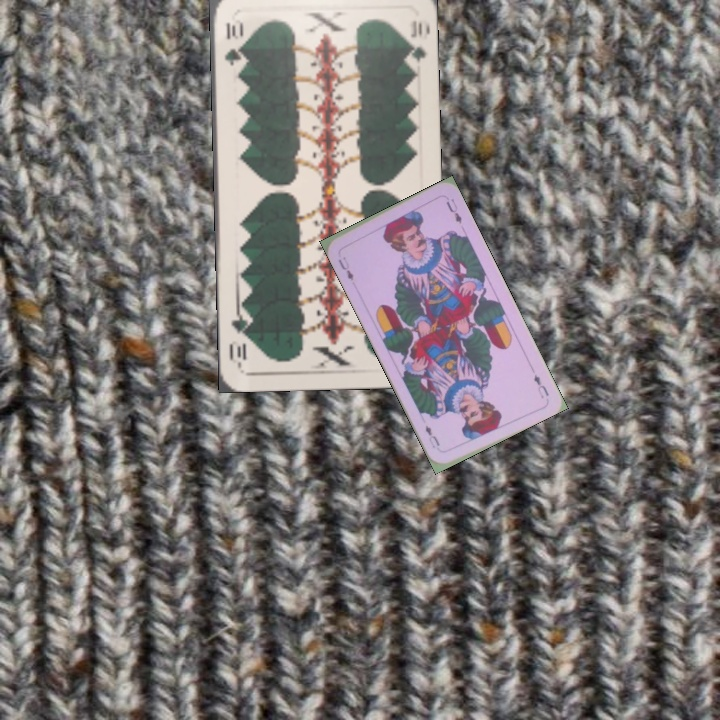EU: (334, 252, 356, 283), (530, 370, 552, 401)
G10: (220, 18, 244, 68)
